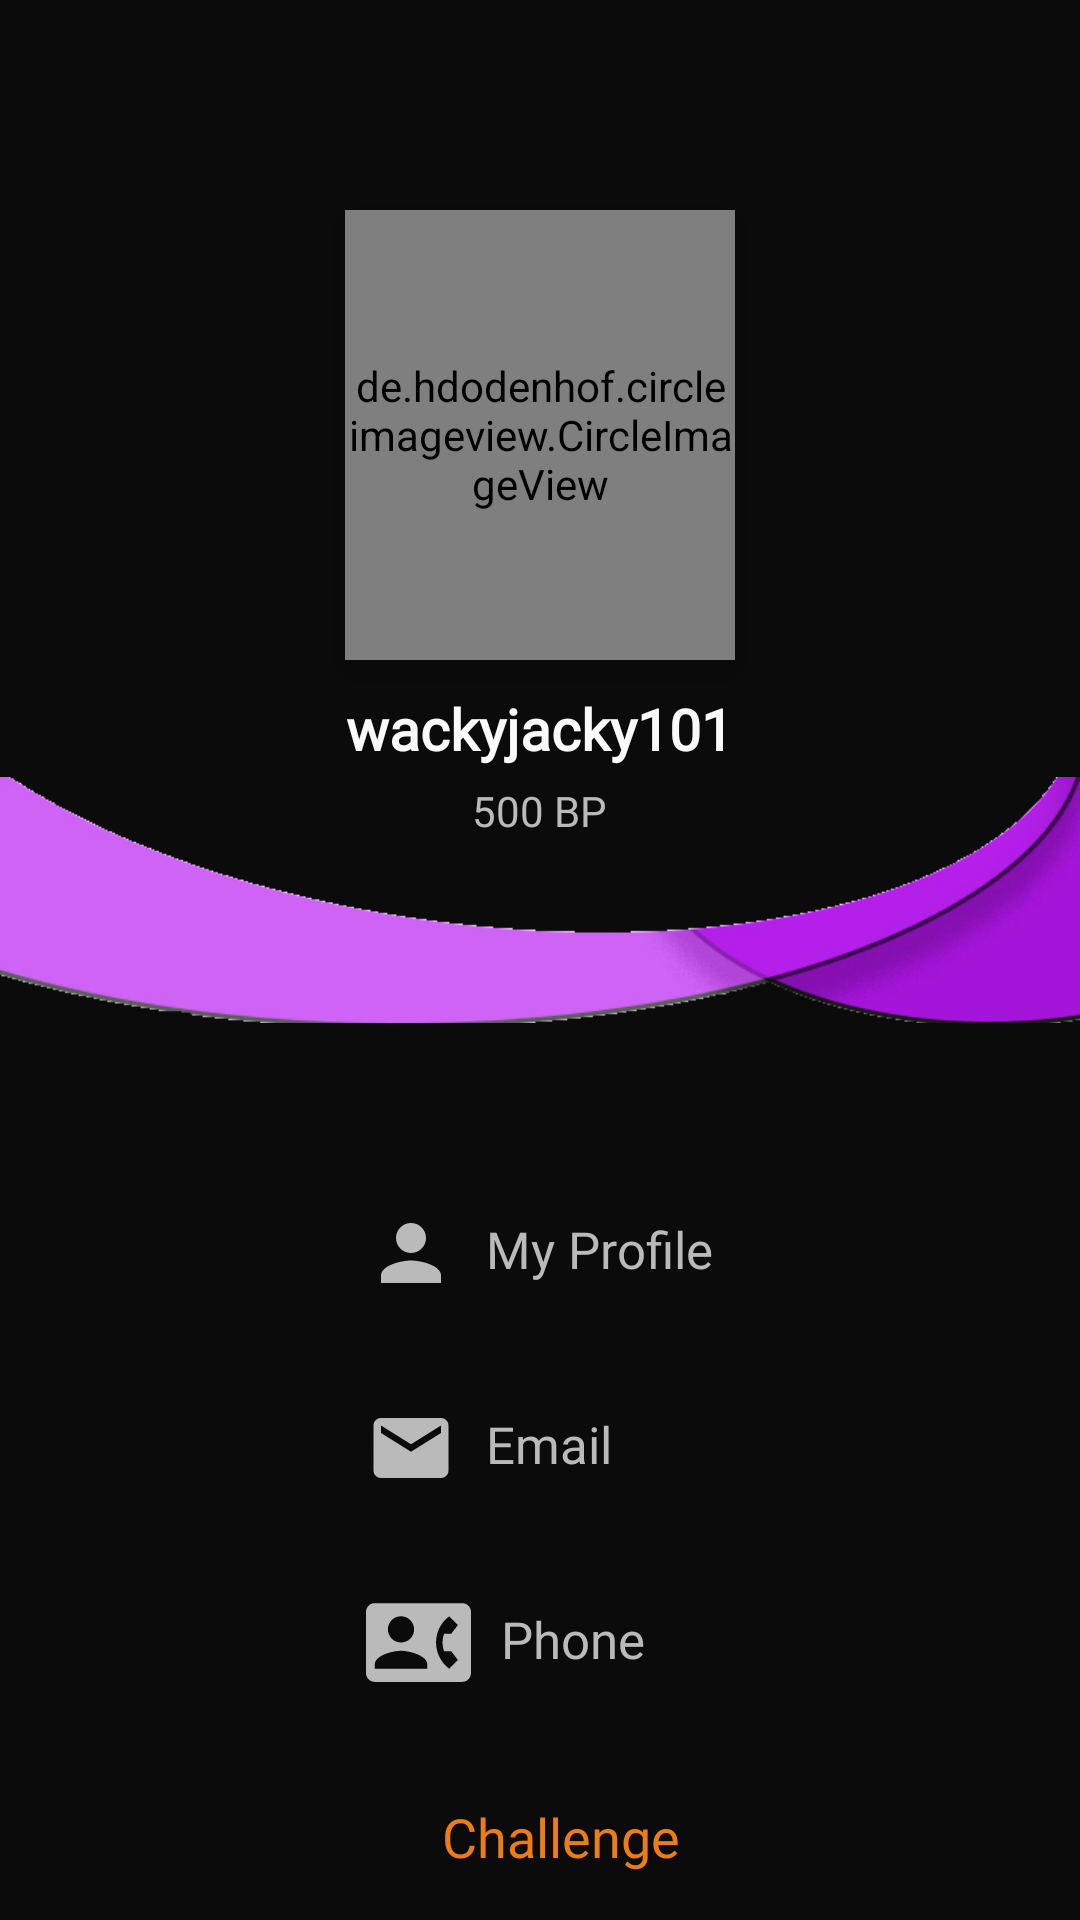

Locate icon controls on the screen. Image size 1080x1920, boxes as (x1, y1, x2, y2).
person profile: (381, 1223, 441, 1283)
